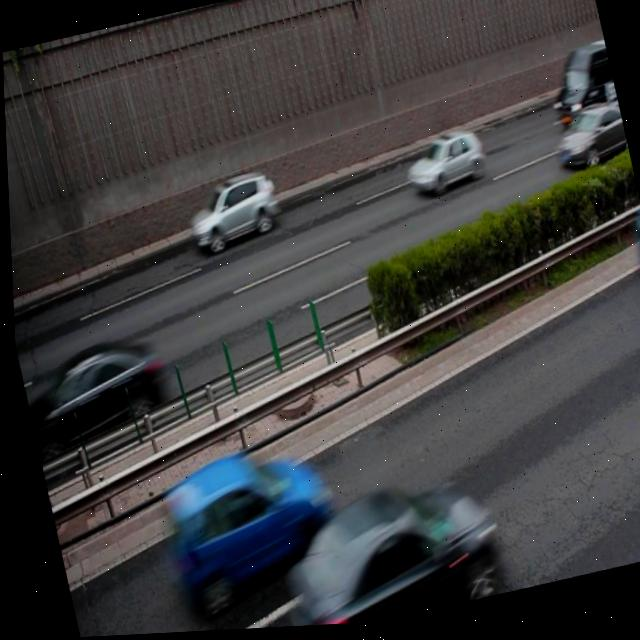car: (261, 468, 498, 630), (146, 438, 339, 624), (36, 332, 166, 451), (181, 169, 282, 259), (396, 126, 487, 205), (547, 106, 629, 178)
truck: (540, 41, 619, 135)
